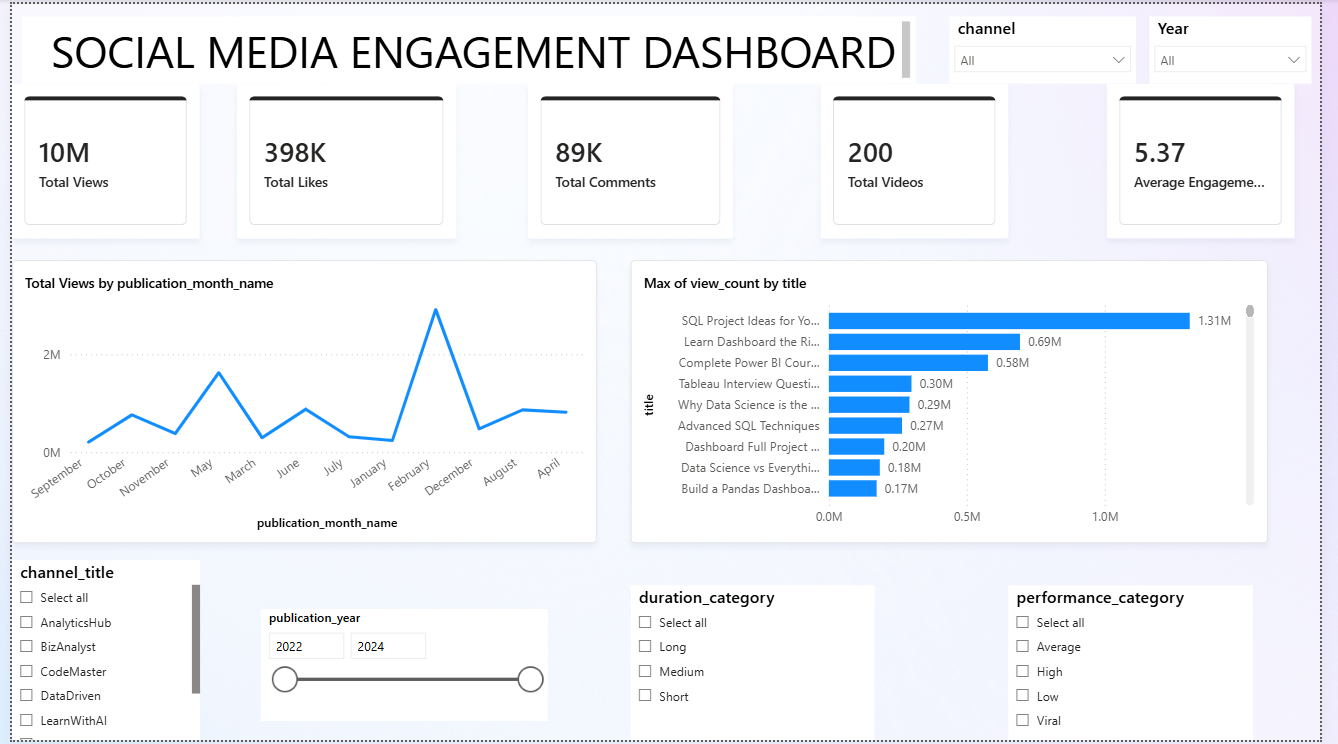

What the dashboard file says about the page in this screenshot:
{"tool":"powerbi","page":{"name":"Executive Overview","canvas":[1280,720],"ordinal":0},"visuals":[{"type":"cardVisual","fields":{"Data":["DimDate.Total Views"]},"box":[0,78.2,183.9,150.9],"z":0},{"type":"cardVisual","fields":{"Data":["DimDate.Total Likes"]},"box":[219.6,78.2,214.1,150.9],"z":1},{"type":"cardVisual","fields":{"Data":["DimDate.Total Comments"]},"box":[505,78.2,200.3,150.9],"z":2},{"type":"cardVisual","fields":{"Data":["DimDate.Total Videos"]},"box":[791.8,78.2,183.9,150.9],"z":3},{"type":"cardVisual","fields":{"Data":["DimDate.Average Engagement Rate"]},"box":[1071.7,78.2,183.9,150.9],"z":4},{"type":"lineChart","fields":{"Category":["youtube_cleaned_data.publication_month_name"],"Y":["DimDate.Total Views"]},"box":[0,251.1,572.2,277.2],"z":5},{"type":"barChart","fields":{"Category":["youtube_cleaned_data.title"],"Y":["Max(youtube_cleaned_data.view_count)"]},"box":[605.1,251.1,623,277.2],"z":6},{"type":"slicer","fields":{"Values":["youtube_cleaned_data.channel_title"]},"box":[0,544.8,183.9,175.6],"z":7},{"type":"slicer","fields":{"Values":["youtube_cleaned_data.publication_year"]},"box":[242.9,591.4,279.9,108.4],"z":8},{"type":"slicer","fields":{"Values":["youtube_cleaned_data.duration_category"]},"box":[605.1,568.1,238.8,152.3],"z":9},{"type":"slicer","fields":{"Values":["youtube_cleaned_data.performance_category"]},"box":[975,568.7,239.5,151.1],"z":10},{"type":"textbox","box":[9.6,12.3,874.1,65.9],"z":12},{"type":"slicer","fields":{"Values":["youtube_cleaned_data.channel_title"]},"box":[916.5,12.8,182.4,65.6],"z":13},{"type":"slicer","fields":{"Values":["DimDate.Year"]},"box":[1113.2,12.8,158.2,65.6],"z":14}]}

Visuals, with their boxes in screenshot pixels (x1, y1, x2, y2), scaled from the page's 1280x720 canvas onto the 1338x744 screenshot:
cardVisual - DimDate.Total Views: rect(0, 81, 192, 237)
cardVisual - DimDate.Total Likes: rect(230, 81, 453, 237)
cardVisual - DimDate.Total Comments: rect(528, 81, 737, 237)
cardVisual - DimDate.Total Videos: rect(828, 81, 1020, 237)
cardVisual - DimDate.Average Engagement Rate: rect(1120, 81, 1312, 237)
lineChart - youtube_cleaned_data.publication_month_name x DimDate.Total Views: rect(0, 259, 598, 546)
barChart - youtube_cleaned_data.title x Max(youtube_cleaned_data.view_count): rect(633, 259, 1284, 546)
slicer - youtube_cleaned_data.channel_title: rect(0, 563, 192, 743)
slicer - youtube_cleaned_data.publication_year: rect(254, 611, 546, 723)
slicer - youtube_cleaned_data.duration_category: rect(633, 587, 882, 743)
slicer - youtube_cleaned_data.performance_category: rect(1019, 588, 1270, 743)
textbox: rect(10, 13, 924, 81)
slicer - youtube_cleaned_data.channel_title: rect(958, 13, 1149, 81)
slicer - DimDate.Year: rect(1164, 13, 1329, 81)
